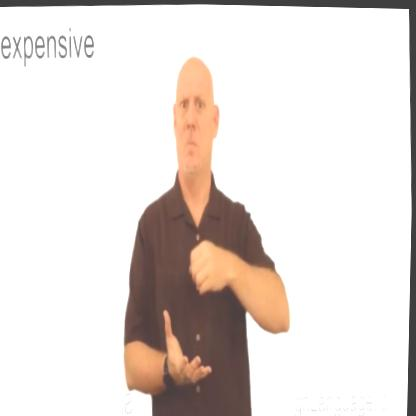Expensive: (111, 47, 301, 416)
